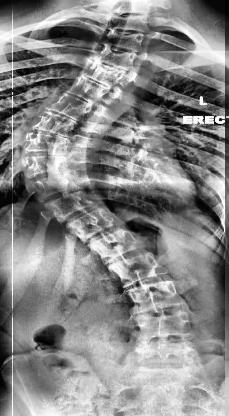Vertebrae: (58, 206, 128, 242), (132, 338, 206, 372), (88, 228, 150, 266), (40, 190, 106, 224), (121, 280, 189, 312), (112, 253, 176, 285), (130, 309, 198, 339), (76, 59, 132, 89), (22, 170, 82, 198), (27, 110, 81, 140), (15, 150, 76, 176), (63, 75, 115, 105), (87, 44, 142, 72), (46, 92, 96, 122), (20, 130, 76, 156), (101, 27, 150, 53), (101, 13, 155, 35)
